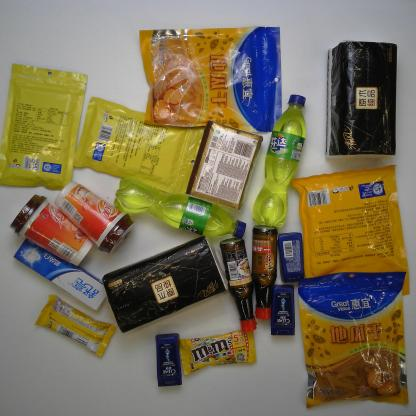Chocolate: (34, 294, 118, 358), (178, 329, 258, 376)
Dried Fruit: (295, 271, 410, 409), (290, 164, 410, 296), (138, 25, 283, 133), (72, 96, 206, 197), (0, 63, 89, 192)
Drink: (113, 176, 247, 239), (252, 94, 307, 229)
Instant Drink: (9, 194, 94, 266), (53, 181, 135, 255)
Personal Hygiene: (13, 237, 107, 312), (154, 333, 183, 388), (277, 231, 305, 284), (270, 284, 296, 336)
Seasoner: (219, 236, 258, 333), (251, 225, 278, 320)
Tissue: (101, 236, 229, 334), (324, 40, 398, 160), (184, 120, 264, 210)
